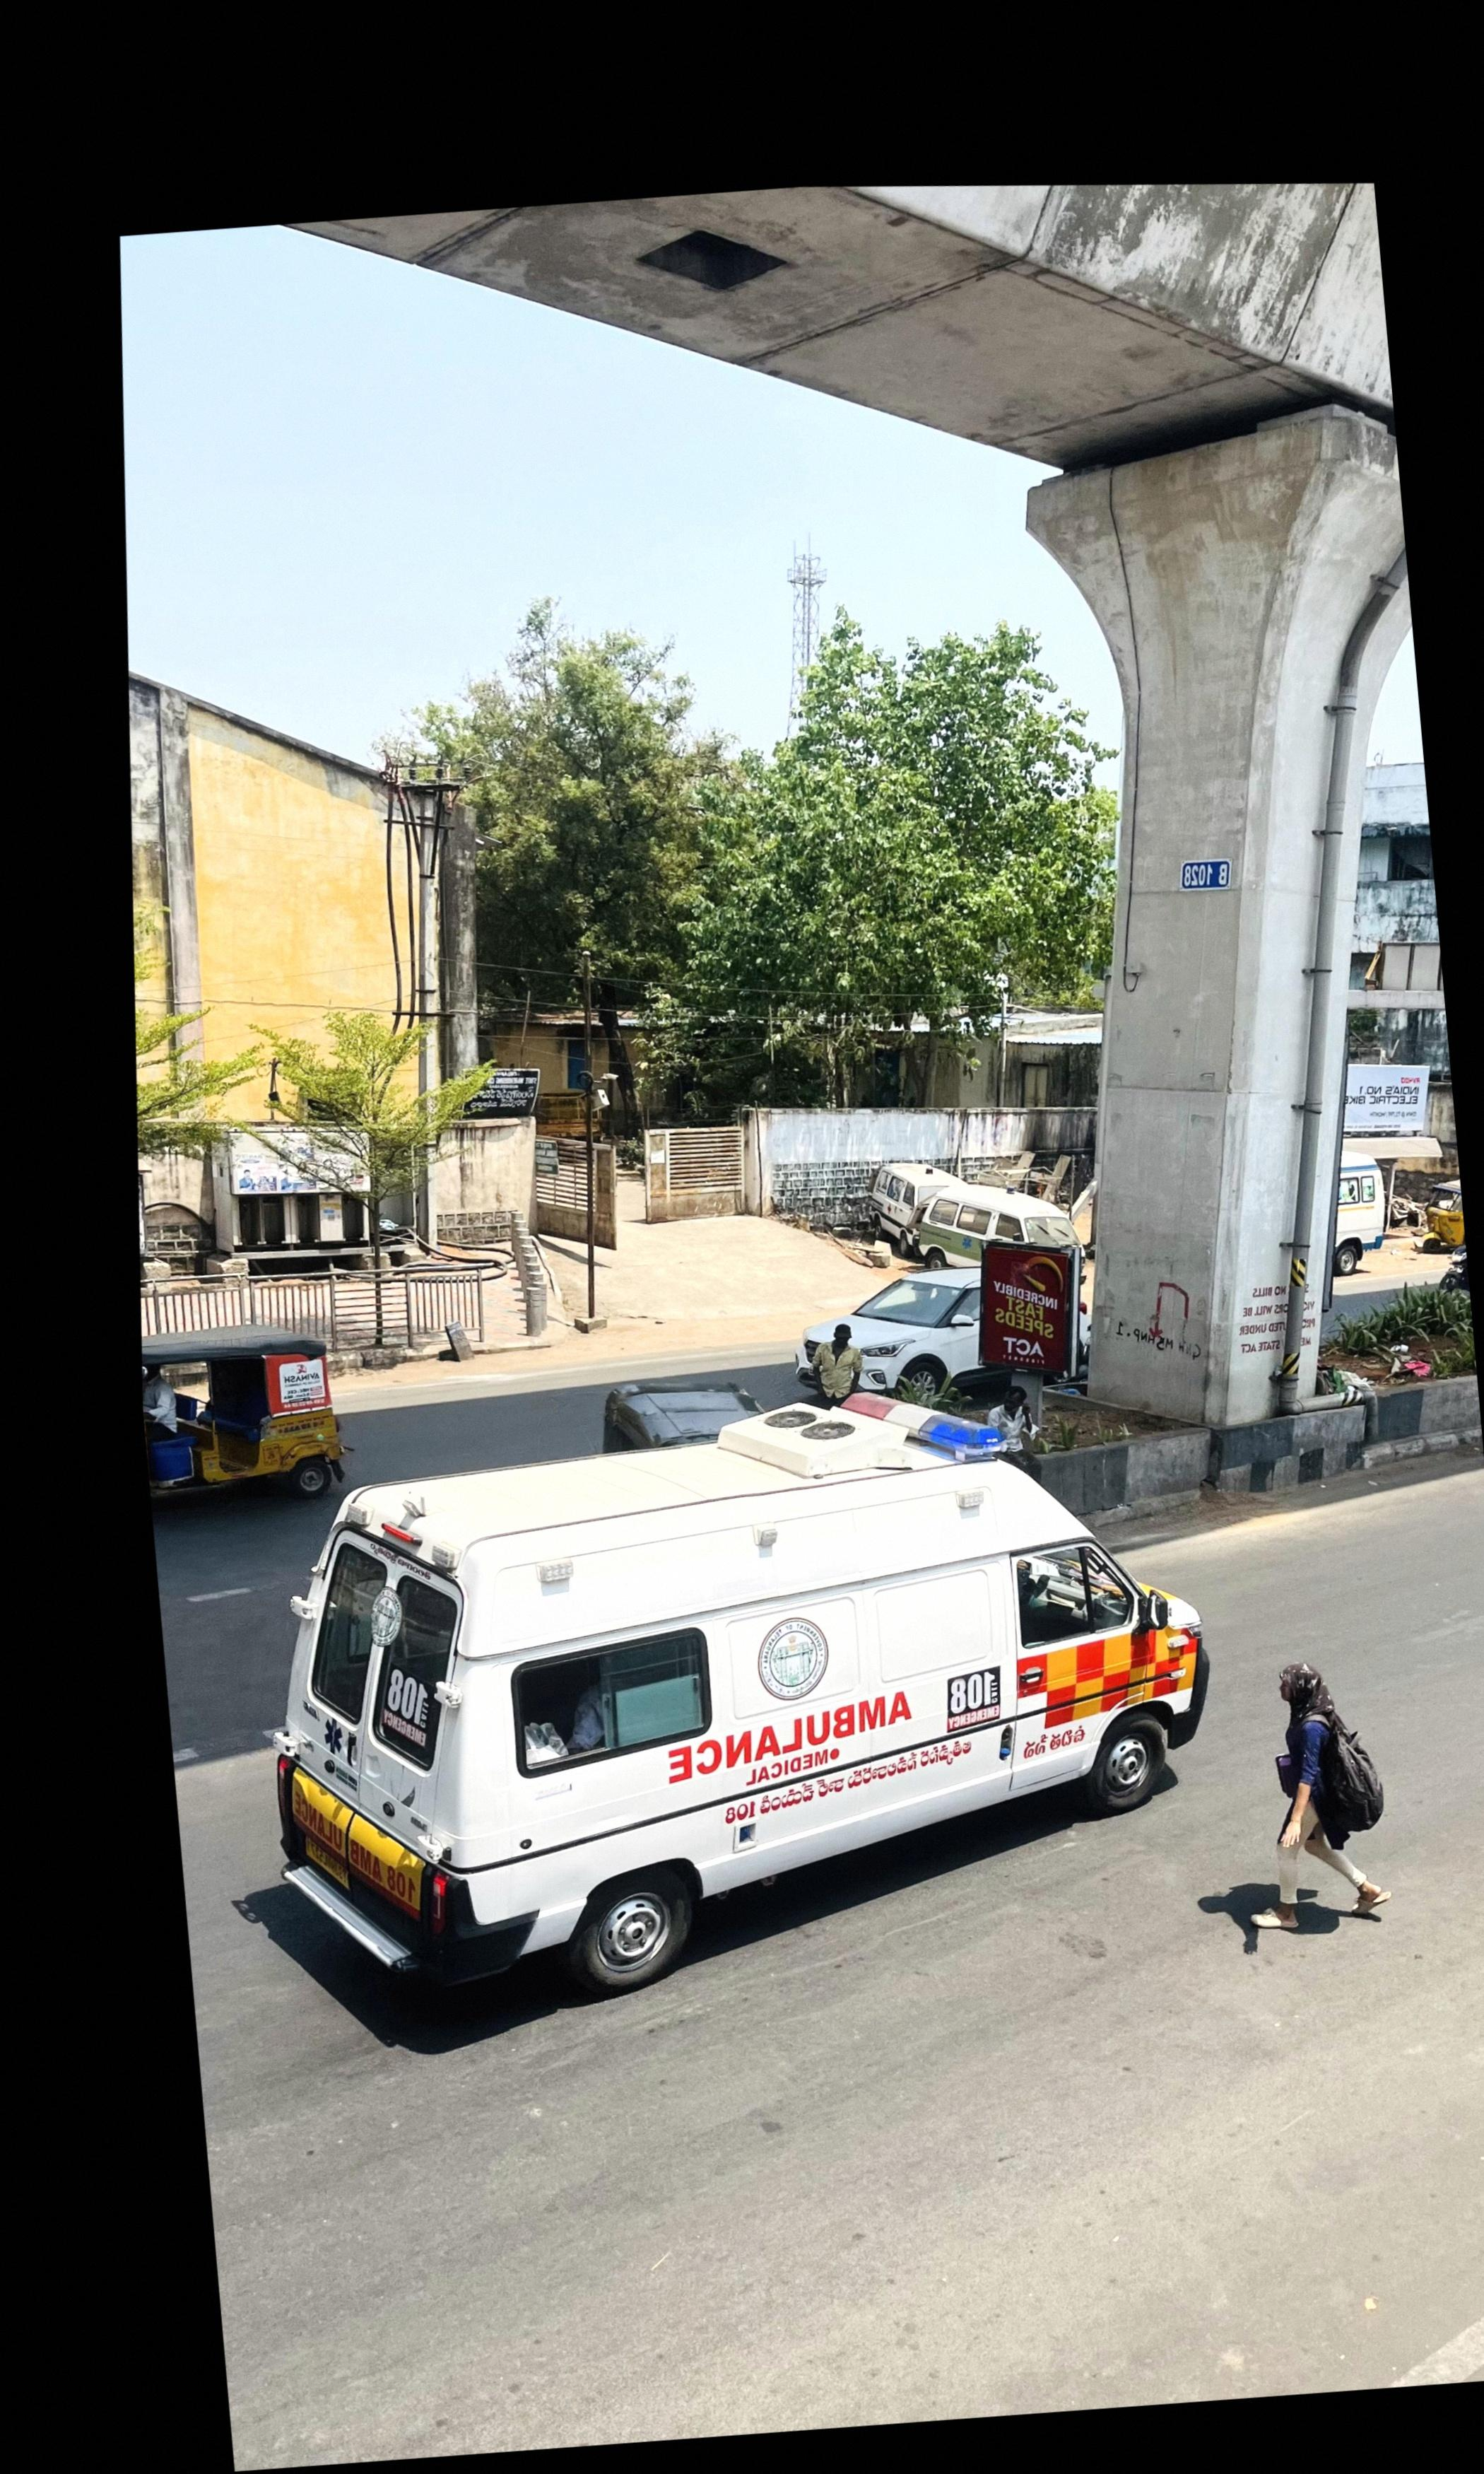ambulance: (274, 1428, 1194, 2000)
